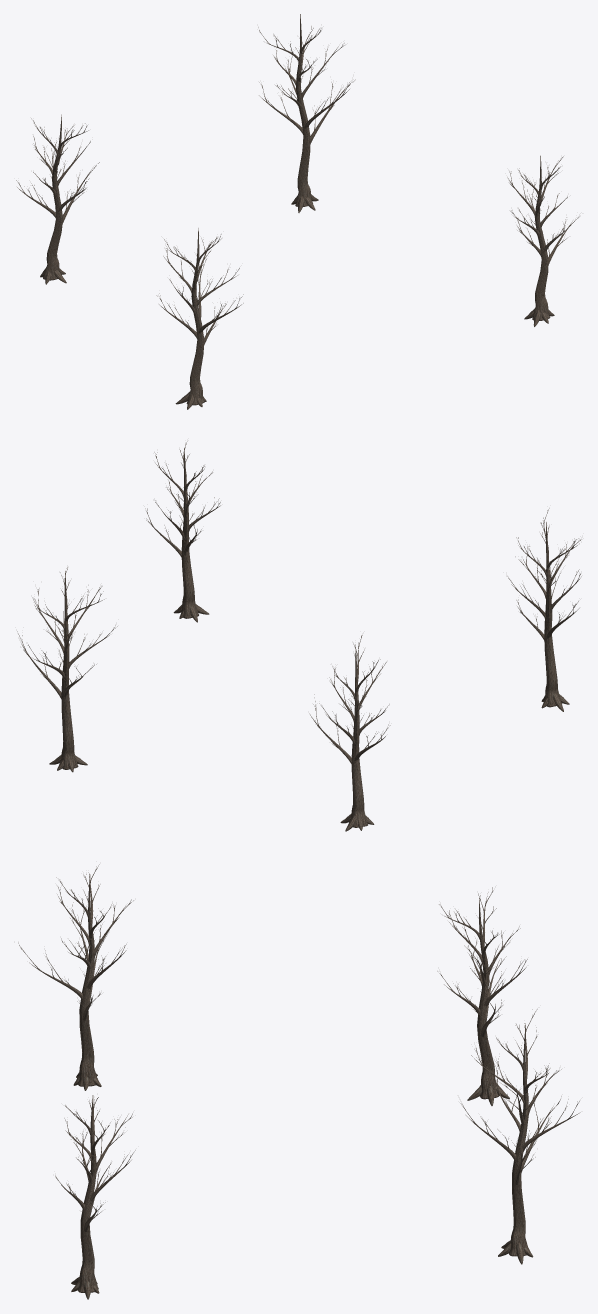
Rendered from trees-polish.glb.
3 renders of one model, top to bottom at view 1: azimuth 30°, elevation 25°; view 2: azimuth 150°, elevation 25°; view 3: azimuth 270°, elevation 25°, orthographic. The views are drawn at different scales.
Parts seen in each view (by area): view 1: Tree_1_Bark, Tree_3_Bark, Tree_0_Bark, Tree_2_Bark; view 2: Tree_1_Bark, Tree_3_Bark, Tree_0_Bark, Tree_2_Bark; view 3: Tree_1_Bark, Tree_3_Bark, Tree_0_Bark, Tree_2_Bark.
Part boxes in pixels (x1,y1,x2,y2): Tree_1_Bark: (258,14,355,212); Tree_3_Bark: (156,228,243,409); Tree_0_Bark: (16,114,99,284); Tree_2_Bark: (507,155,579,326); Tree_1_Bark: (17,567,117,772); Tree_3_Bark: (507,508,581,711); Tree_0_Bark: (309,635,390,831); Tree_2_Bark: (145,441,220,622); Tree_1_Bark: (460,1009,580,1264); Tree_3_Bark: (18,864,133,1090); Tree_0_Bark: (437,887,527,1105); Tree_2_Bark: (55,1095,135,1299).
Size of the model in its own units: 20.77 by 8.9 by 19.84.
Materials: 1 (1 with a texture image).
